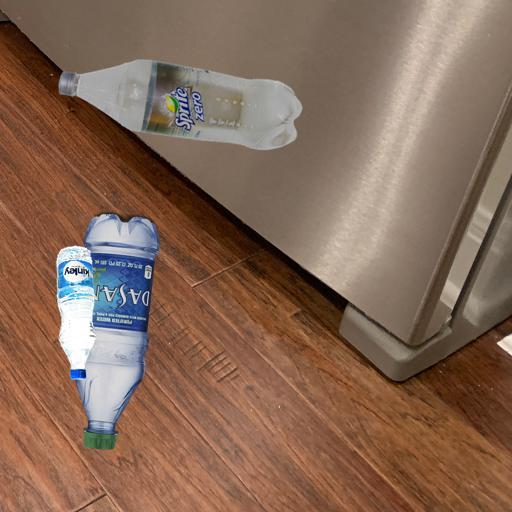bottle: (30, 198, 166, 462), (0, 55, 154, 165), (52, 311, 103, 314)
